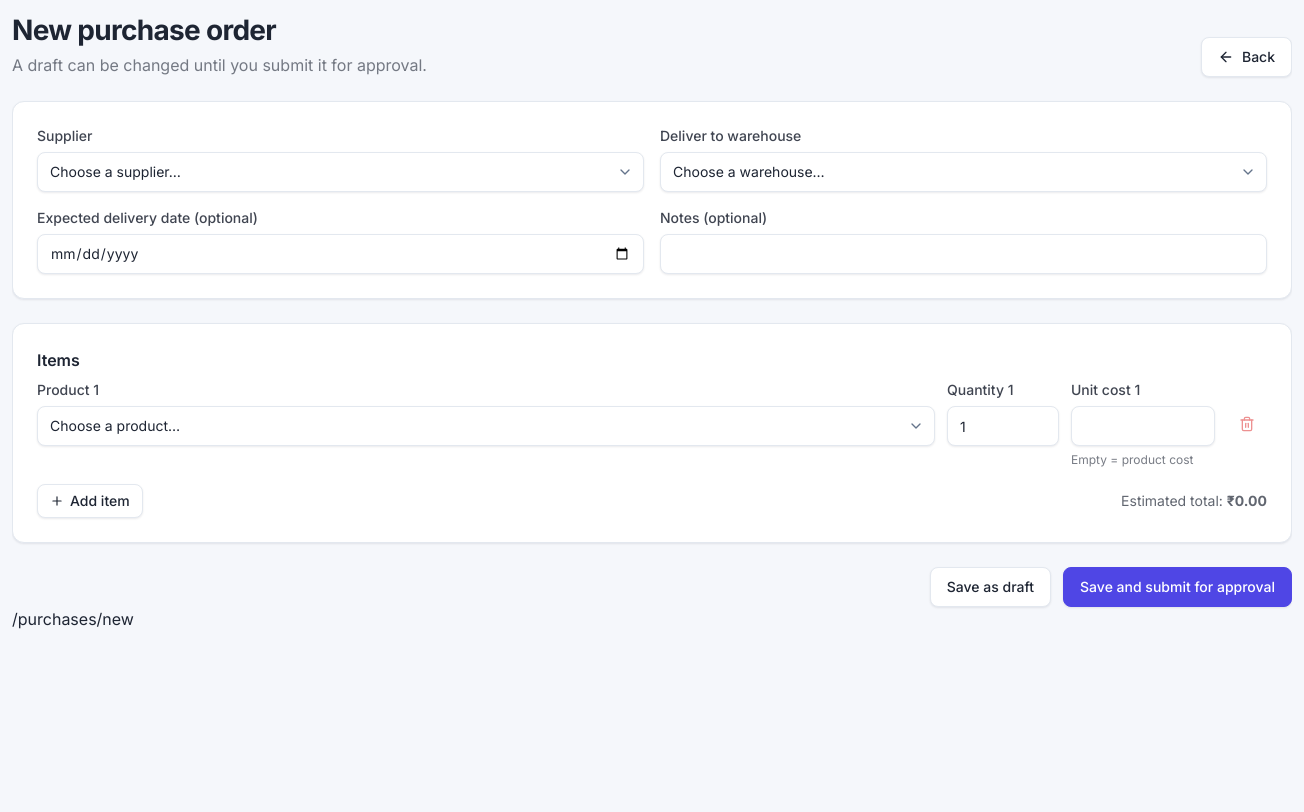
Scenario: PurchaseFormPage — new › validation blocks missing fields and duplicate products
Click the button "Save as draft" at (990, 587), box [930,567,1051,607]
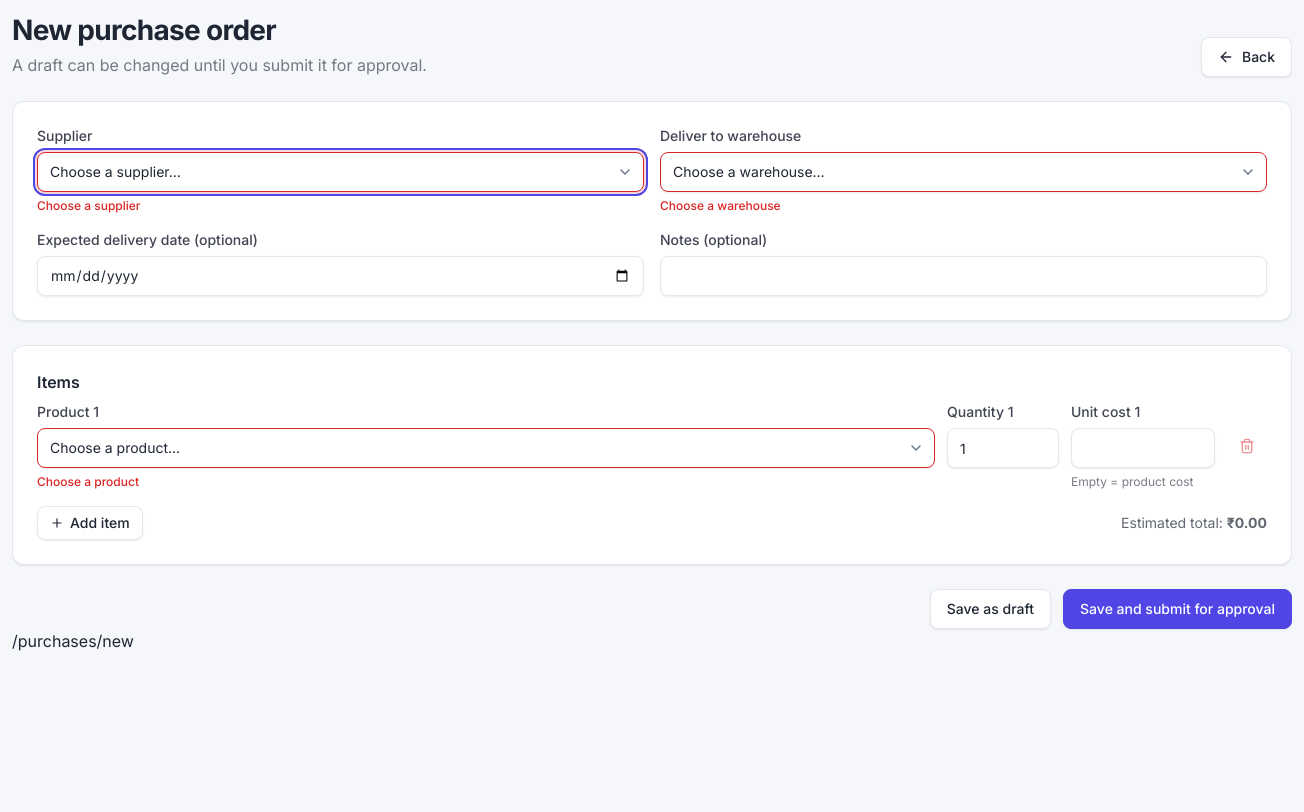
expect the text "Choose a supplier" is shown: met, box [37,198,140,213]
expect the text "Choose a warehouse" is shown: met, box [660,198,781,213]
expect the text "Choose a product" is shown: met, box [37,474,139,489]
Select "Acme Electronics" in the dropdown labelled "Supplier" at (340, 172), box [37,152,644,192]
Select "Noida Hub (NOI-01)" in the dropdown labelled "Deliver to warehouse" at (964, 172), box [660,152,1267,192]
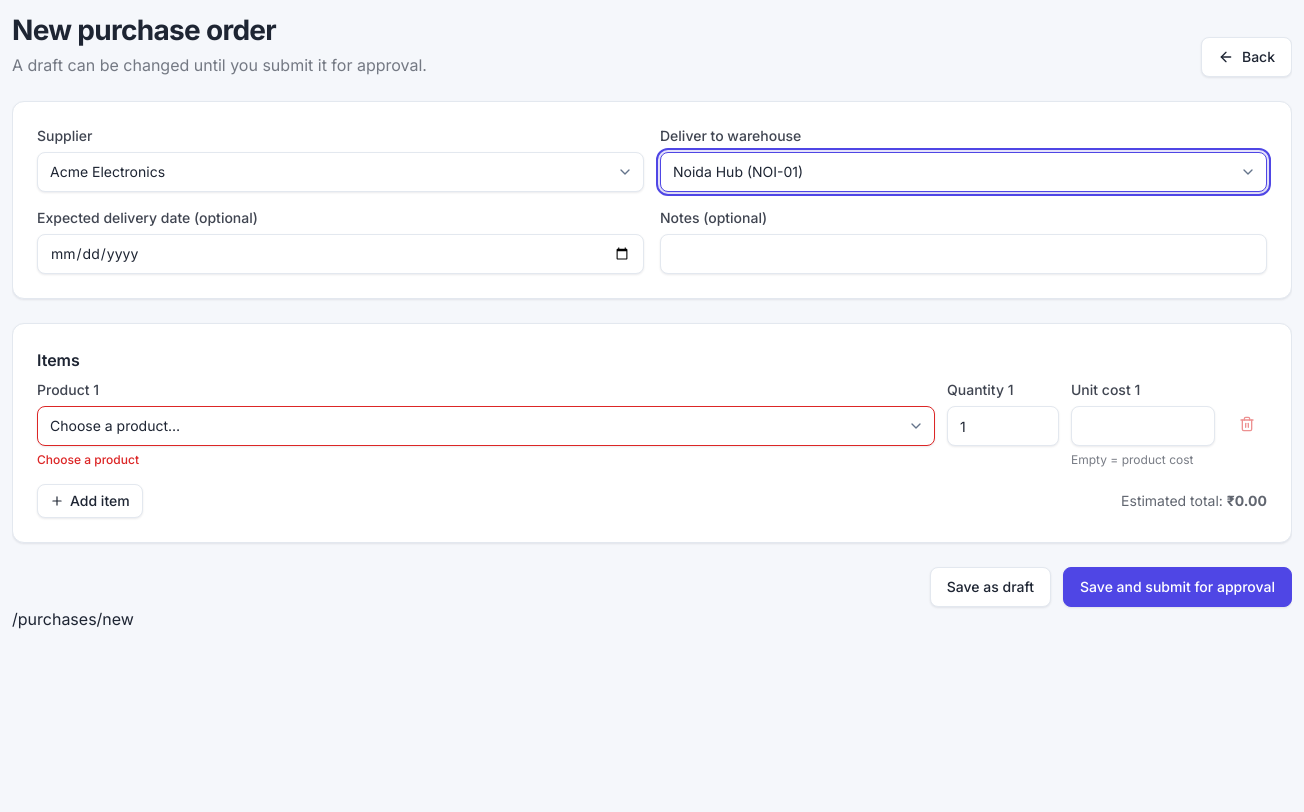
Select "Keyboard (KEY-K100) — cost ₹400.00" in the dropdown labelled "Product 1" at (486, 426), box [37,406,935,446]
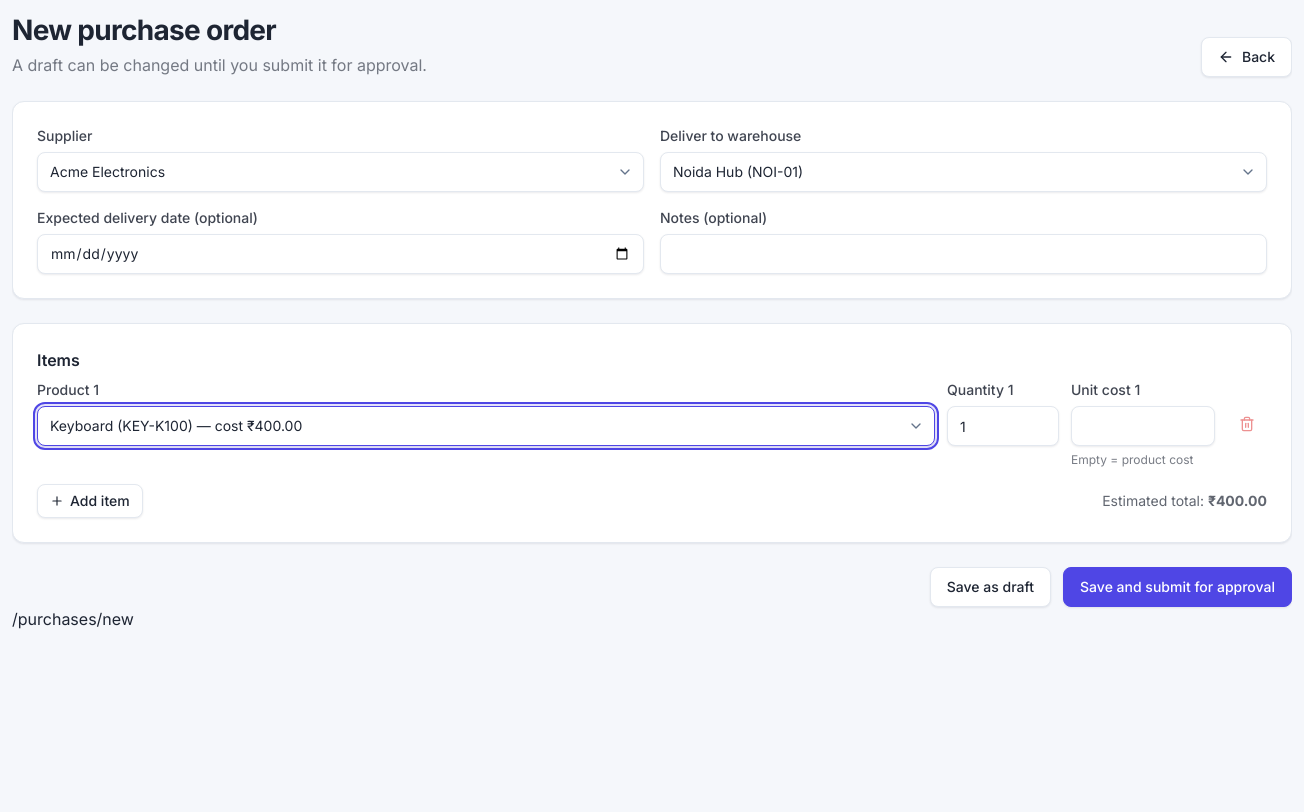
Click the button "Add item" at (90, 501), box [37,484,143,518]
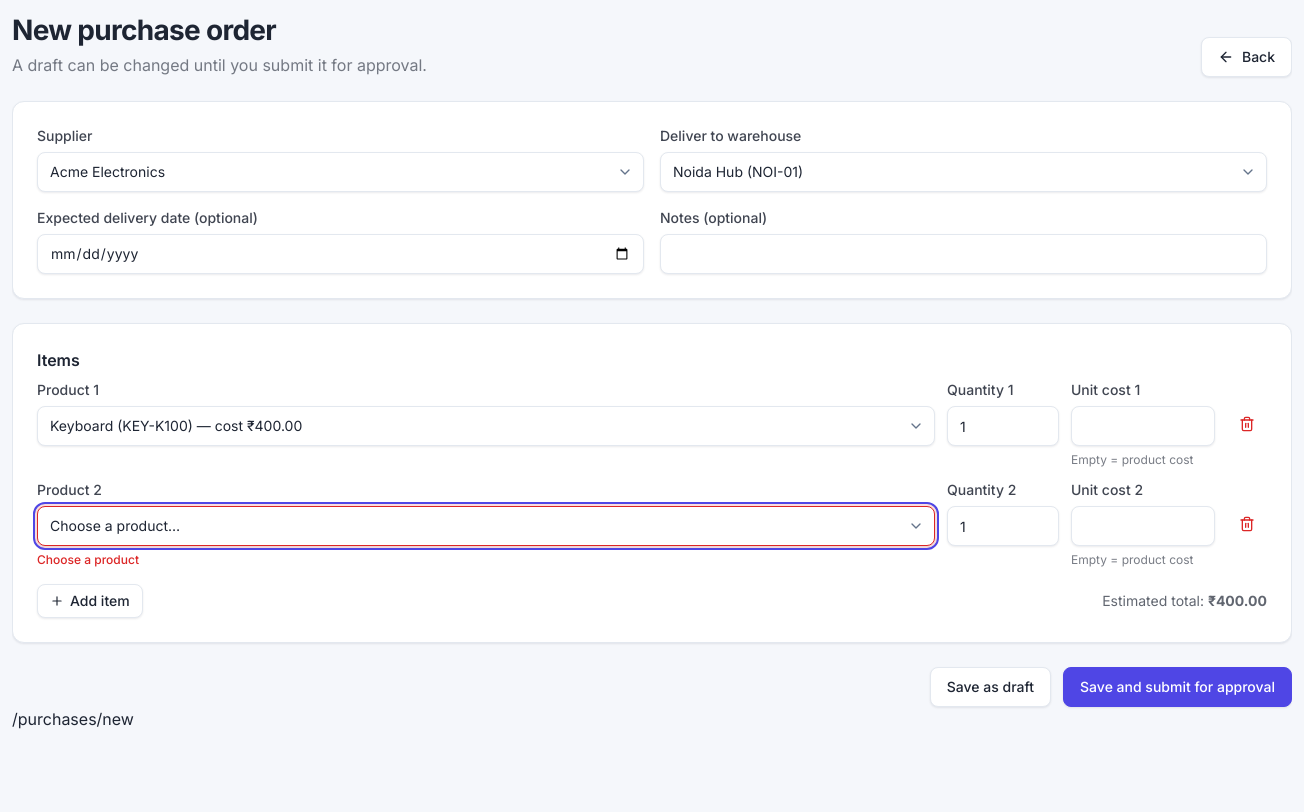
Select "Keyboard (KEY-K100) — cost ₹400.00" in the dropdown labelled "Product 2" at (486, 526), box [37,506,935,546]
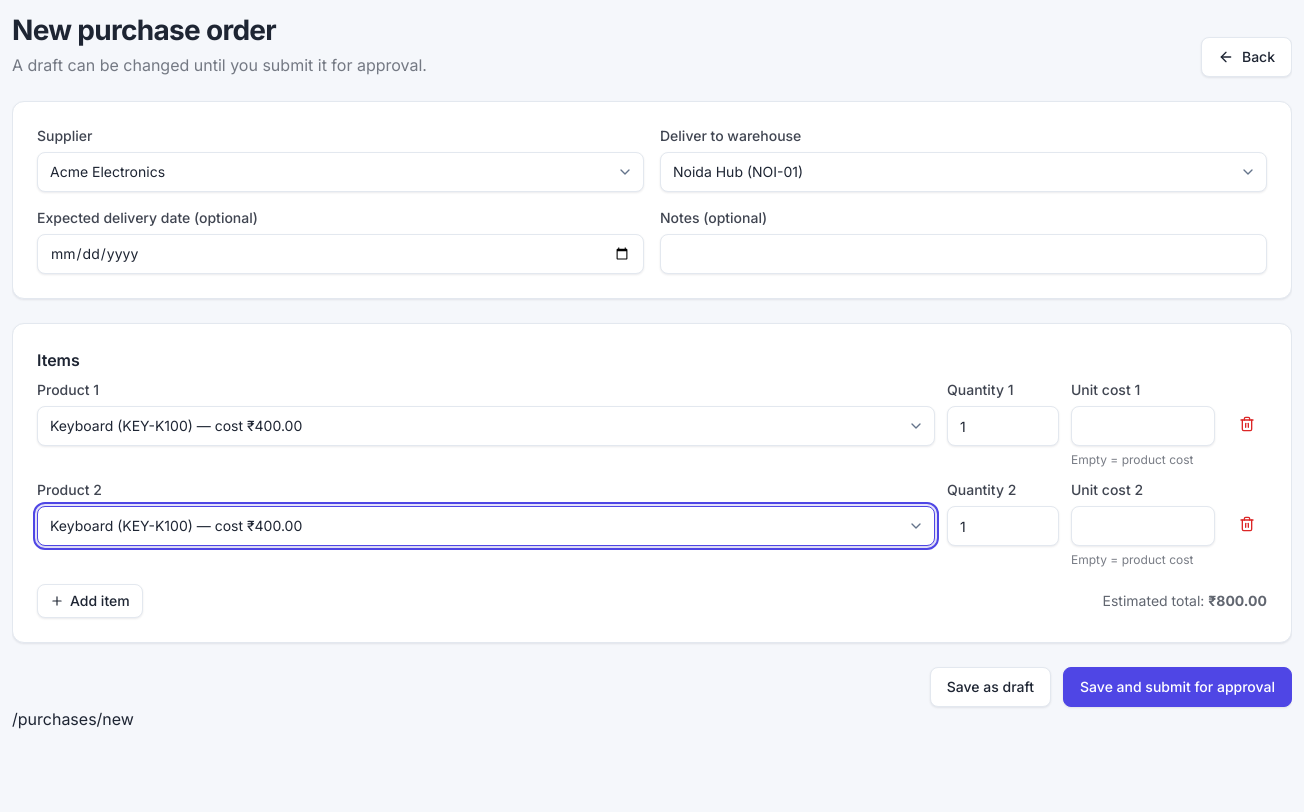
Click the button "Save as draft" at (990, 687), box [930,667,1051,707]
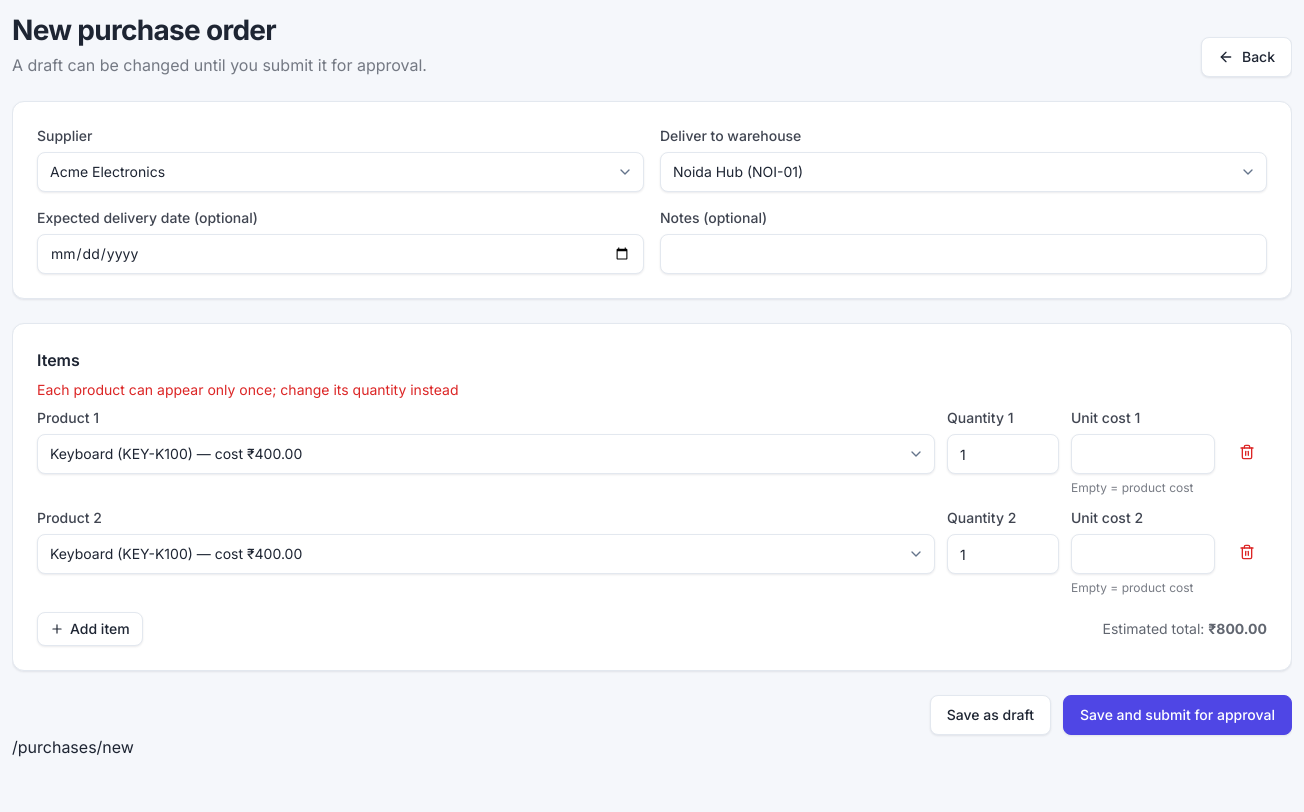
expect the text "Each product can appear only once; change its quantity instead" is shown: met, box [37,381,458,398]
